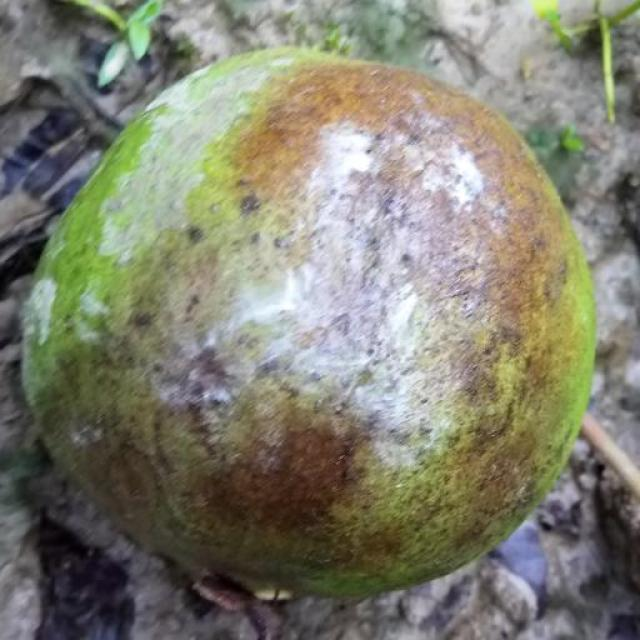Phytopthora: (25, 48, 595, 598)
